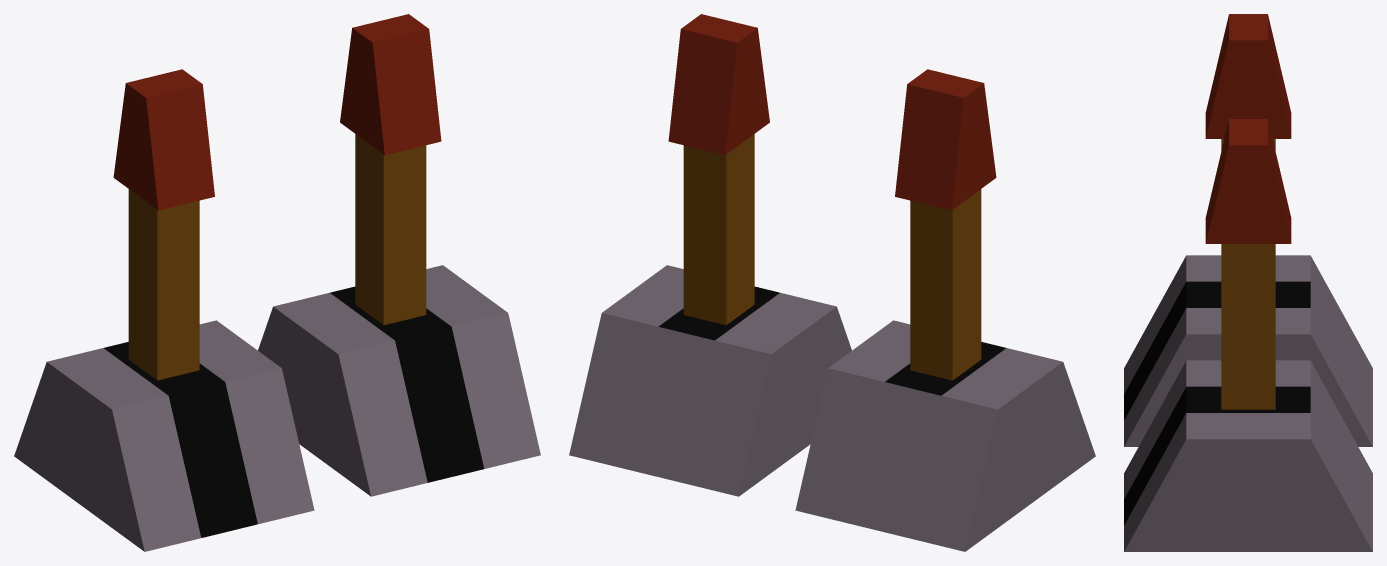
File: obj_hopper_controls_5_0.obj
3 renders of one model, left to right at view 1: azimuth 30°, elevation 25°; view 2: azimuth 150°, elevation 25°; view 3: azimuth 270°, elevation 25°, orthographic. The views are drawn at different scales.
Size of the model in its own units: 0.875 by 0.8438 by 0.5.
